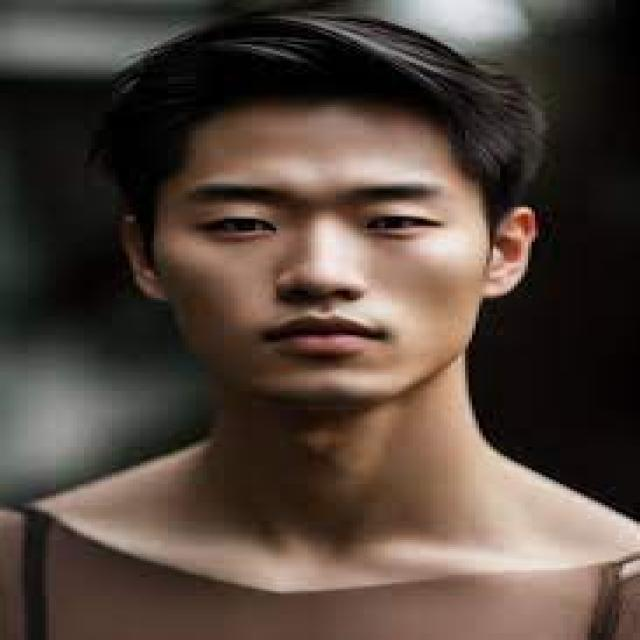human: (3, 7, 640, 638)
